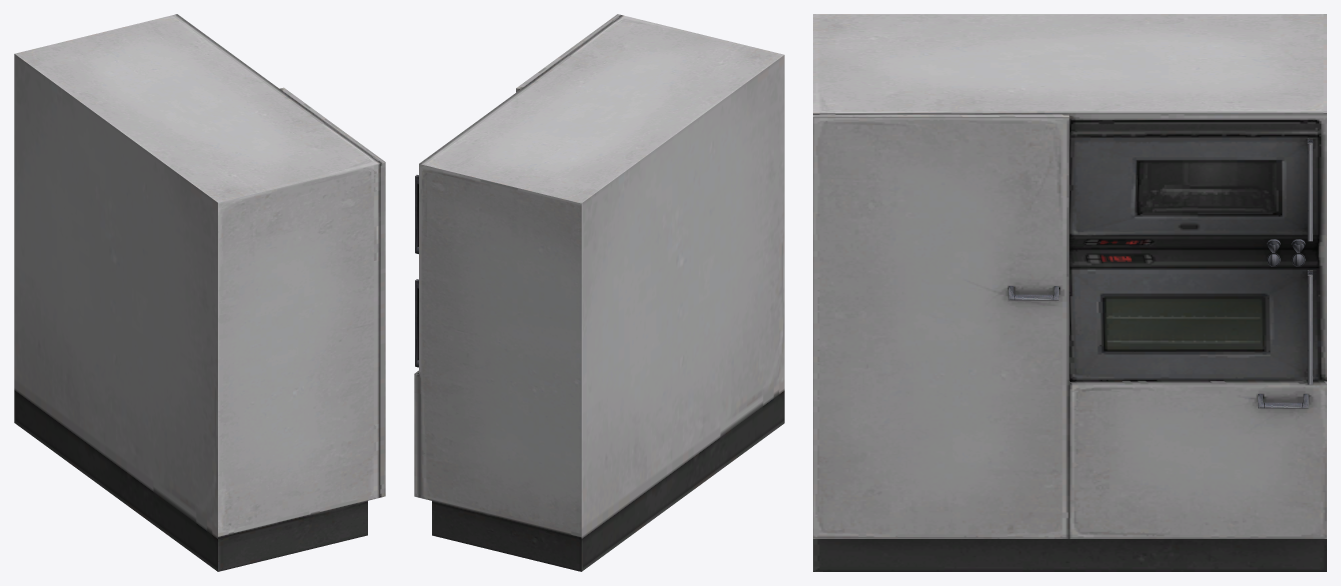
File: Kitchen04.FBX
The picture shows the model from 3 angles, left to right: view 1: azimuth 30°, elevation 25°; view 2: azimuth 150°, elevation 25°; view 3: azimuth 270°, elevation 25°; orthographic projection. The views are drawn at different scales.
Parts seen in each view (by area): view 1: Kitchen04; view 2: Kitchen04; view 3: Kitchen04.
Part boxes in pixels (bbox=[...]): Kitchen04: bbox=[14, 14, 385, 571]; Kitchen04: bbox=[414, 14, 784, 571]; Kitchen04: bbox=[813, 14, 1326, 571].
Size of the model in its own units: 0.992 by 2 by 2.
